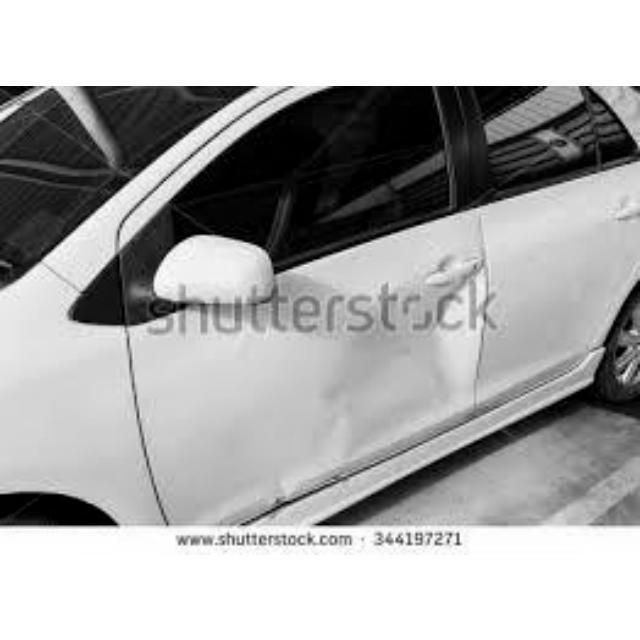doorouter-dent: (289, 225, 484, 452)
